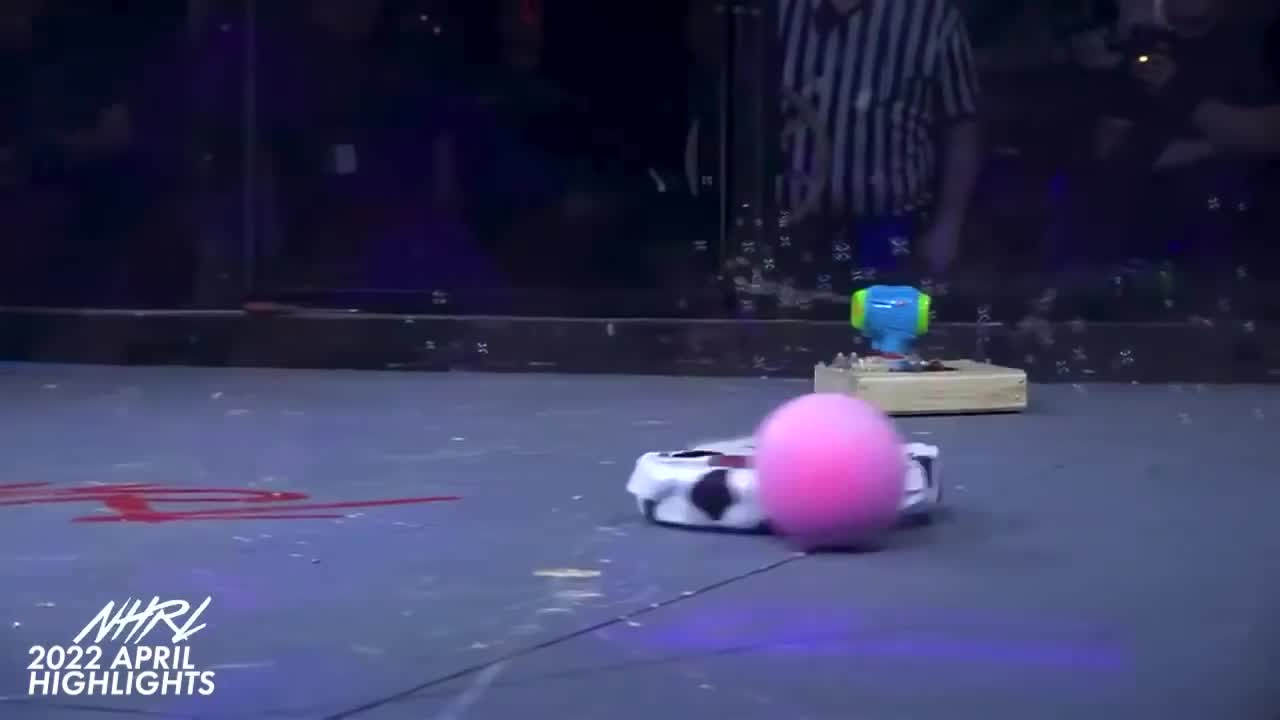combatbot: (623, 389, 942, 545), (815, 286, 1026, 411)
